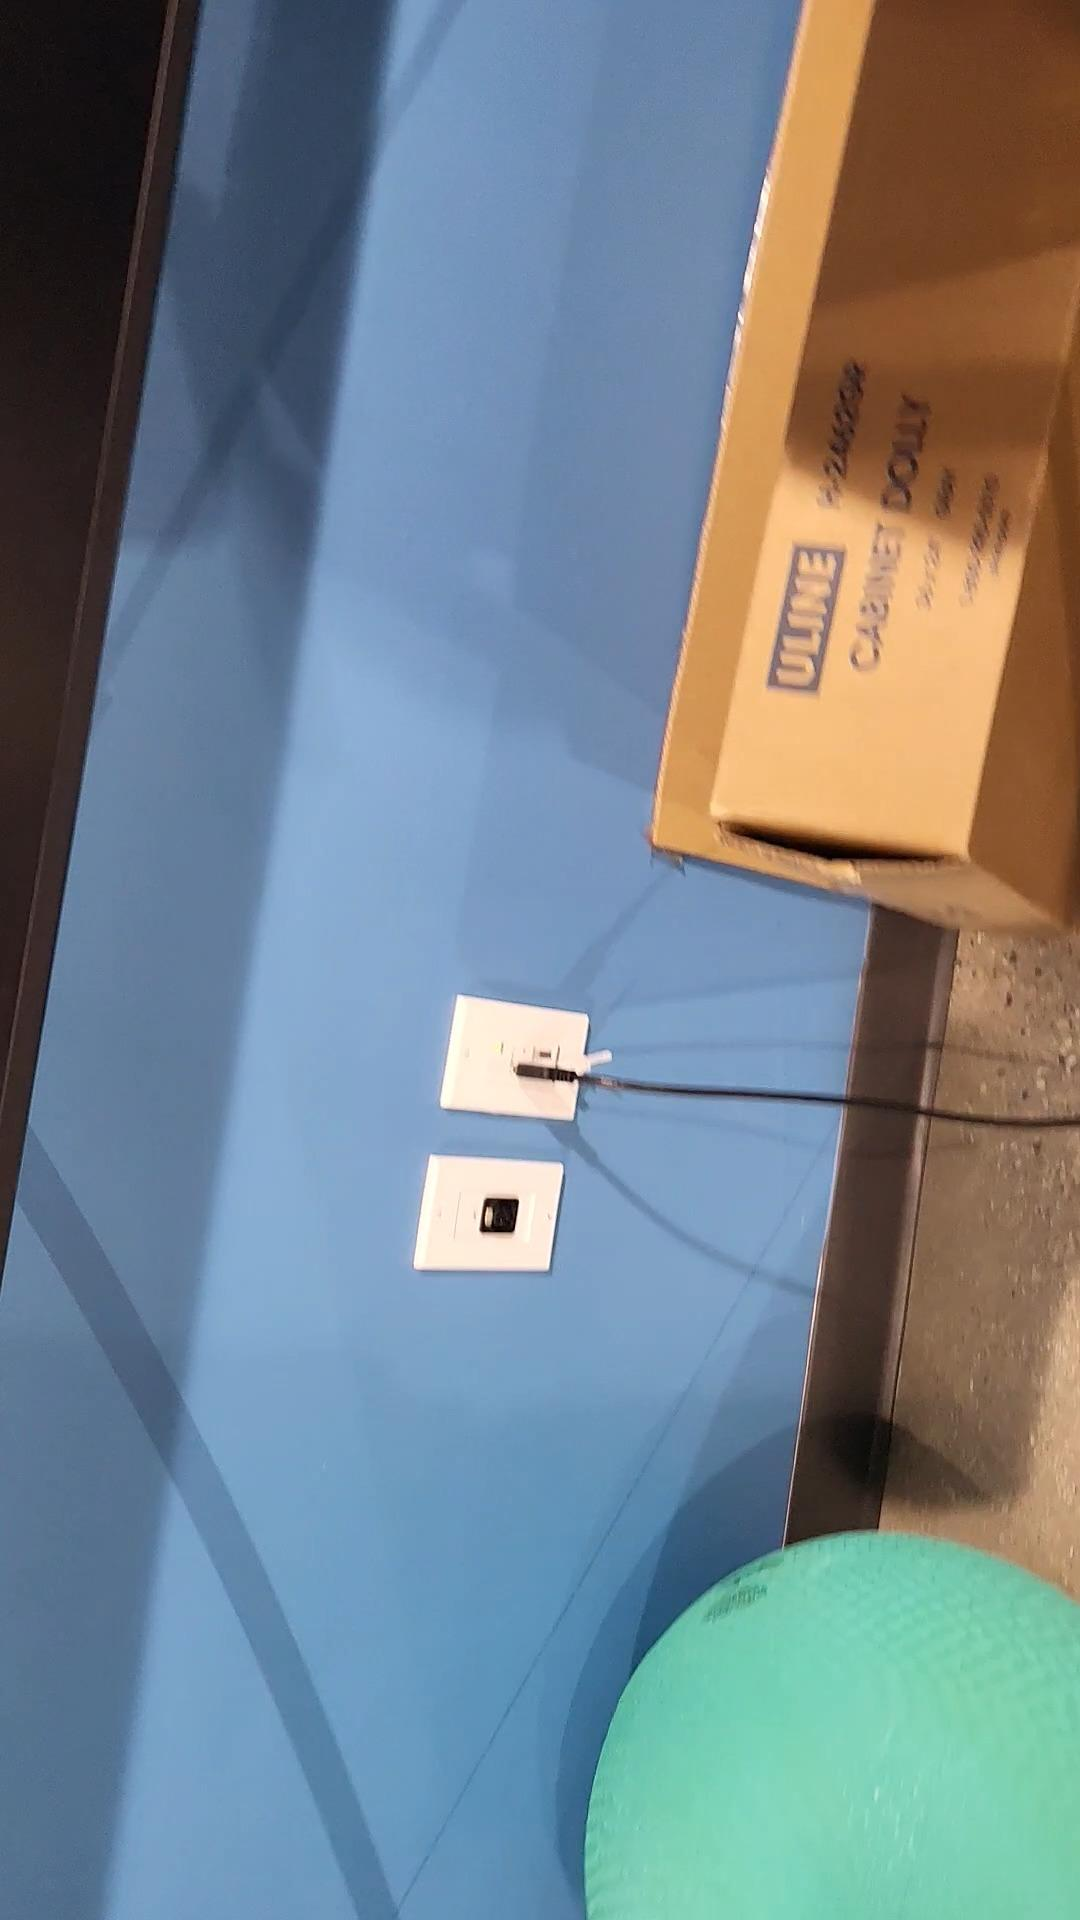algae: (585, 1532, 1080, 1920)
